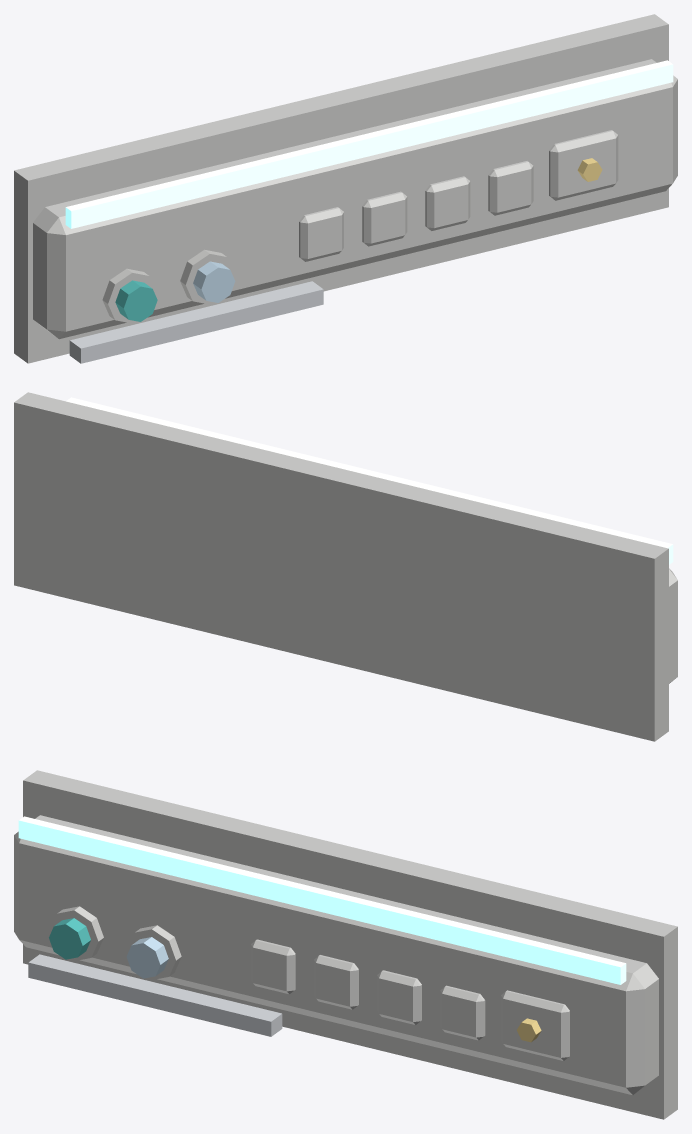
The model's file is ct-room-services.glb.
The picture shows the model from 3 angles, top to bottom: view 1: azimuth 30°, elevation 25°; view 2: azimuth 150°, elevation 25°; view 3: azimuth 330°, elevation 25°; orthographic projection.
Visible parts, largest first — view 1: oxygen-outlet-panel; view 2: oxygen-outlet-panel; view 3: oxygen-outlet-panel.
Part boxes in pixels (x1,y1,x2,y2): oxygen-outlet-panel: (14,14,677,363); oxygen-outlet-panel: (14,392,677,741); oxygen-outlet-panel: (14,770,677,1119).
Size of the model in its own units: 1.32 by 0.36 by 0.175.
